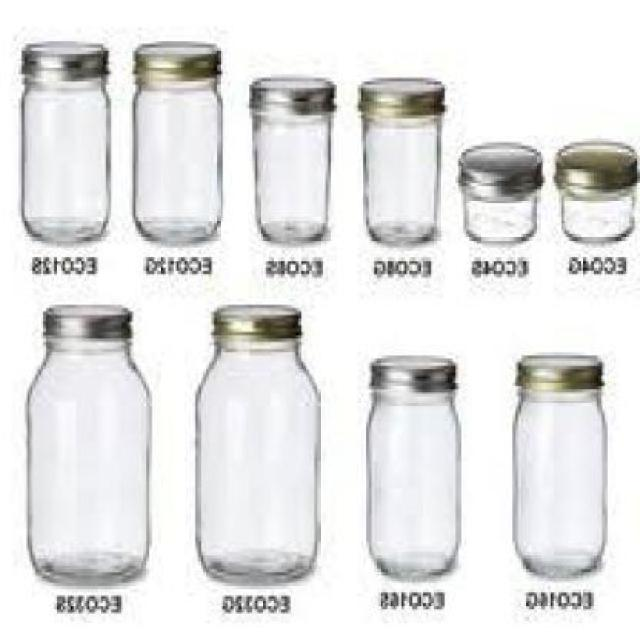GLASS: (29, 336, 152, 578), (198, 336, 320, 576), (518, 386, 610, 576), (371, 390, 464, 576), (24, 74, 114, 240), (136, 74, 224, 240), (255, 108, 336, 241), (368, 108, 446, 244), (563, 186, 639, 243), (466, 190, 540, 241)
METAL: (462, 135, 544, 194), (558, 135, 638, 194), (133, 38, 222, 80), (252, 72, 338, 108), (24, 37, 110, 71), (361, 74, 447, 108), (521, 348, 607, 382), (374, 352, 458, 386), (46, 302, 136, 332), (217, 302, 306, 332)
